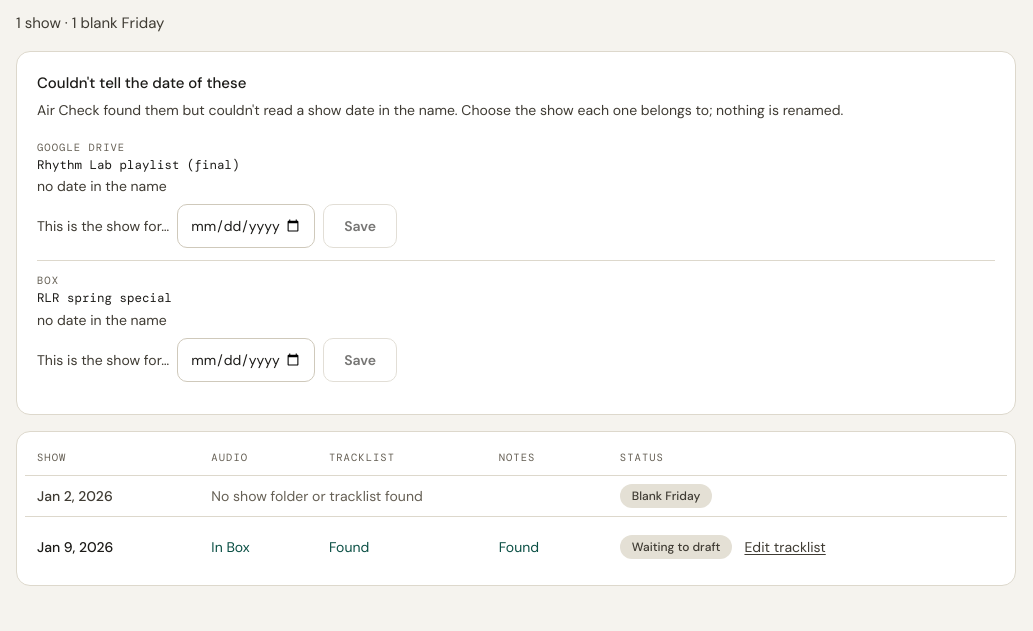
Scenario: undated names › I1: a refused date shows Convex's words (not a Friday)
In the date field labelled "This is the show for…" below "Google Drive": (246, 226) [177,204,315,248], type "2026-01-08"
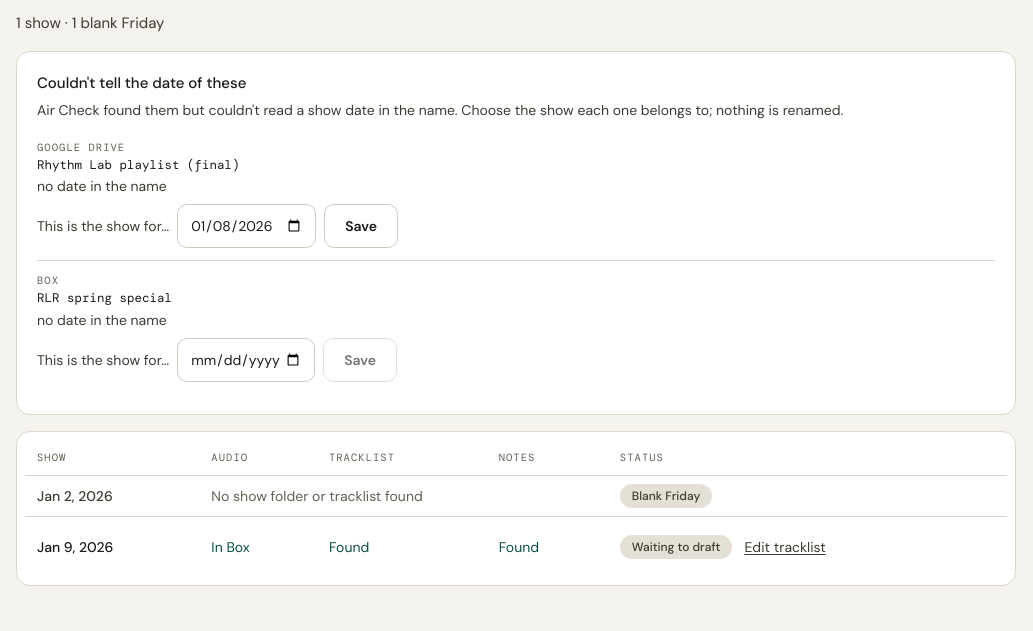
Click the button "Save" below "Google Drive": (361, 226) [324,204,398,248]
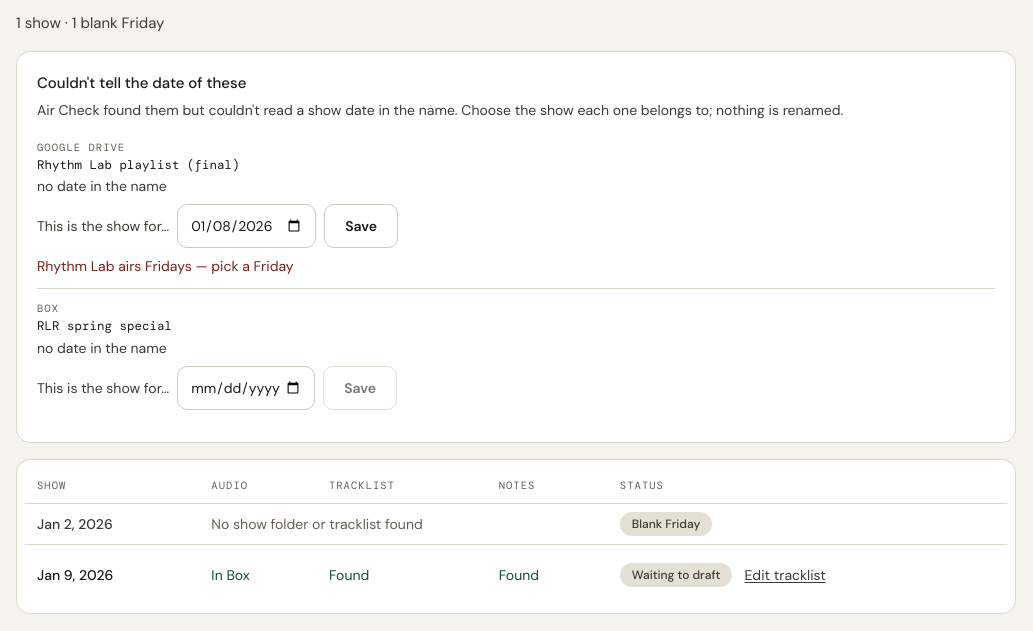
Expected: the message reads "Rhythm Lab airs Fridays — pick a Friday", [37,257,294,275]
